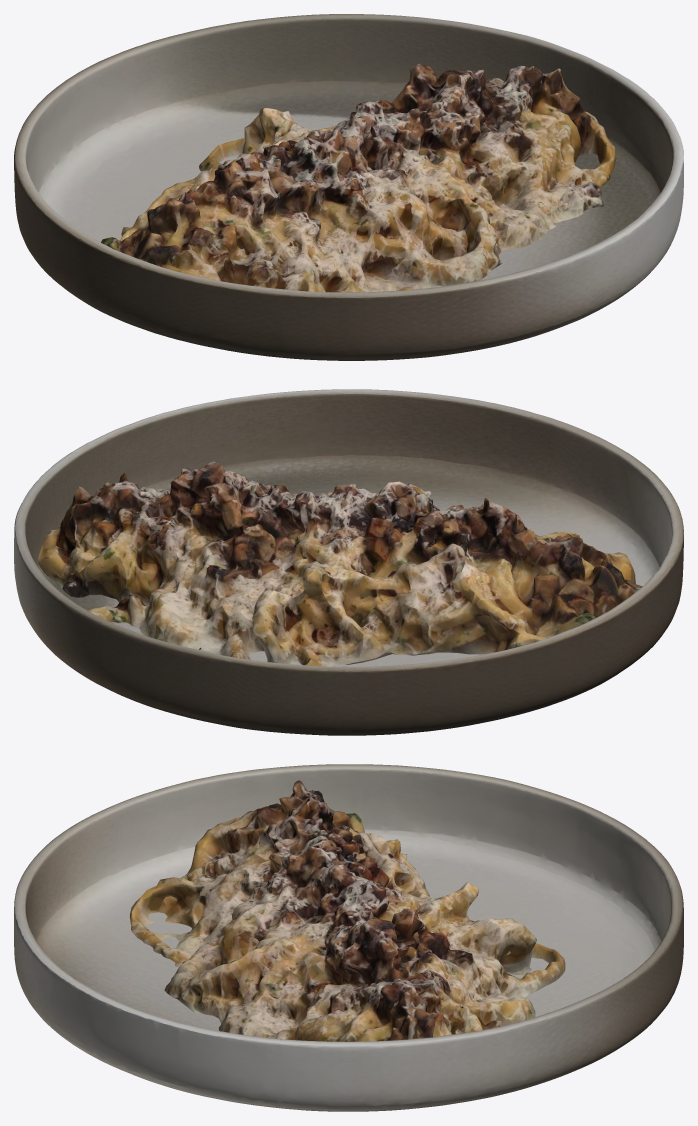
The model's file is Cream.linquini.001.glb.
The picture shows the model from 3 angles, top to bottom: view 1: azimuth 30°, elevation 25°; view 2: azimuth 150°, elevation 25°; view 3: azimuth 270°, elevation 25°; orthographic projection.
Parts seen in each view (by area): view 1: /Root/Scenes/Scene/Object_43/Object_47/Object_48/Submesh_0, /Root/Scenes/Scene/Object_43/Object_44/Submesh_0; view 2: /Root/Scenes/Scene/Object_43/Object_47/Object_48/Submesh_0, /Root/Scenes/Scene/Object_43/Object_44/Submesh_0; view 3: /Root/Scenes/Scene/Object_43/Object_47/Object_48/Submesh_0, /Root/Scenes/Scene/Object_43/Object_44/Submesh_0.
Boxes of the visible parts, <box> form: /Root/Scenes/Scene/Object_43/Object_47/Object_48/Submesh_0: <box>14,14,683,360</box>; /Root/Scenes/Scene/Object_43/Object_44/Submesh_0: <box>101,63,616,292</box>; /Root/Scenes/Scene/Object_43/Object_47/Object_48/Submesh_0: <box>14,389,683,735</box>; /Root/Scenes/Scene/Object_43/Object_44/Submesh_0: <box>38,461,642,666</box>; /Root/Scenes/Scene/Object_43/Object_47/Object_48/Submesh_0: <box>14,764,683,1111</box>; /Root/Scenes/Scene/Object_43/Object_44/Submesh_0: <box>129,780,565,1041</box>.
Size of the model in its own units: 0.27 by 0.0562 by 0.2698.
Materials: 2 (2 with a texture image).
